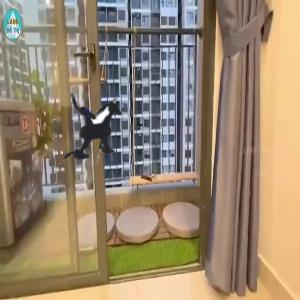drone: (25, 60, 176, 211)
